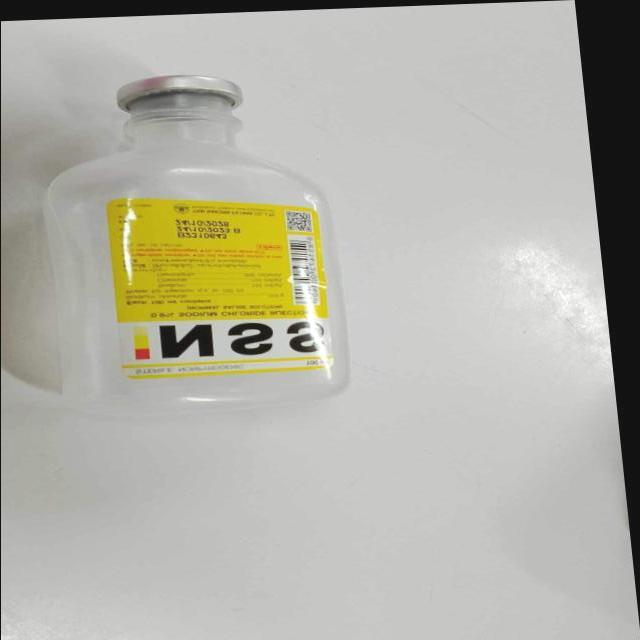General: (104, 196, 335, 382)
Sharps: (4, 74, 352, 419)
